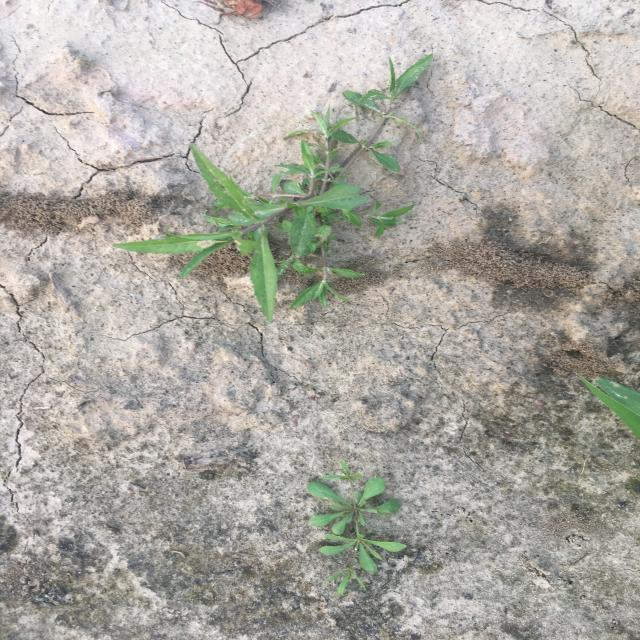Carpetweed: (300, 460, 409, 597)
Eclipta: (108, 52, 437, 324)
